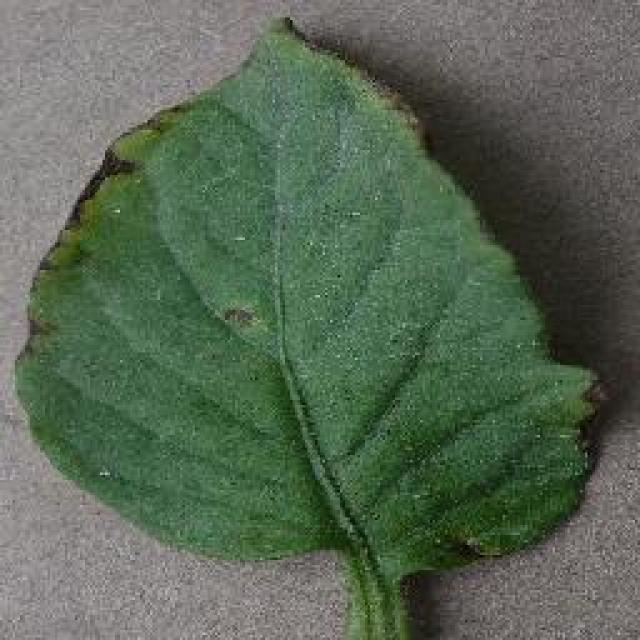Tomato bacterial spot leaf: (17, 19, 605, 631)
